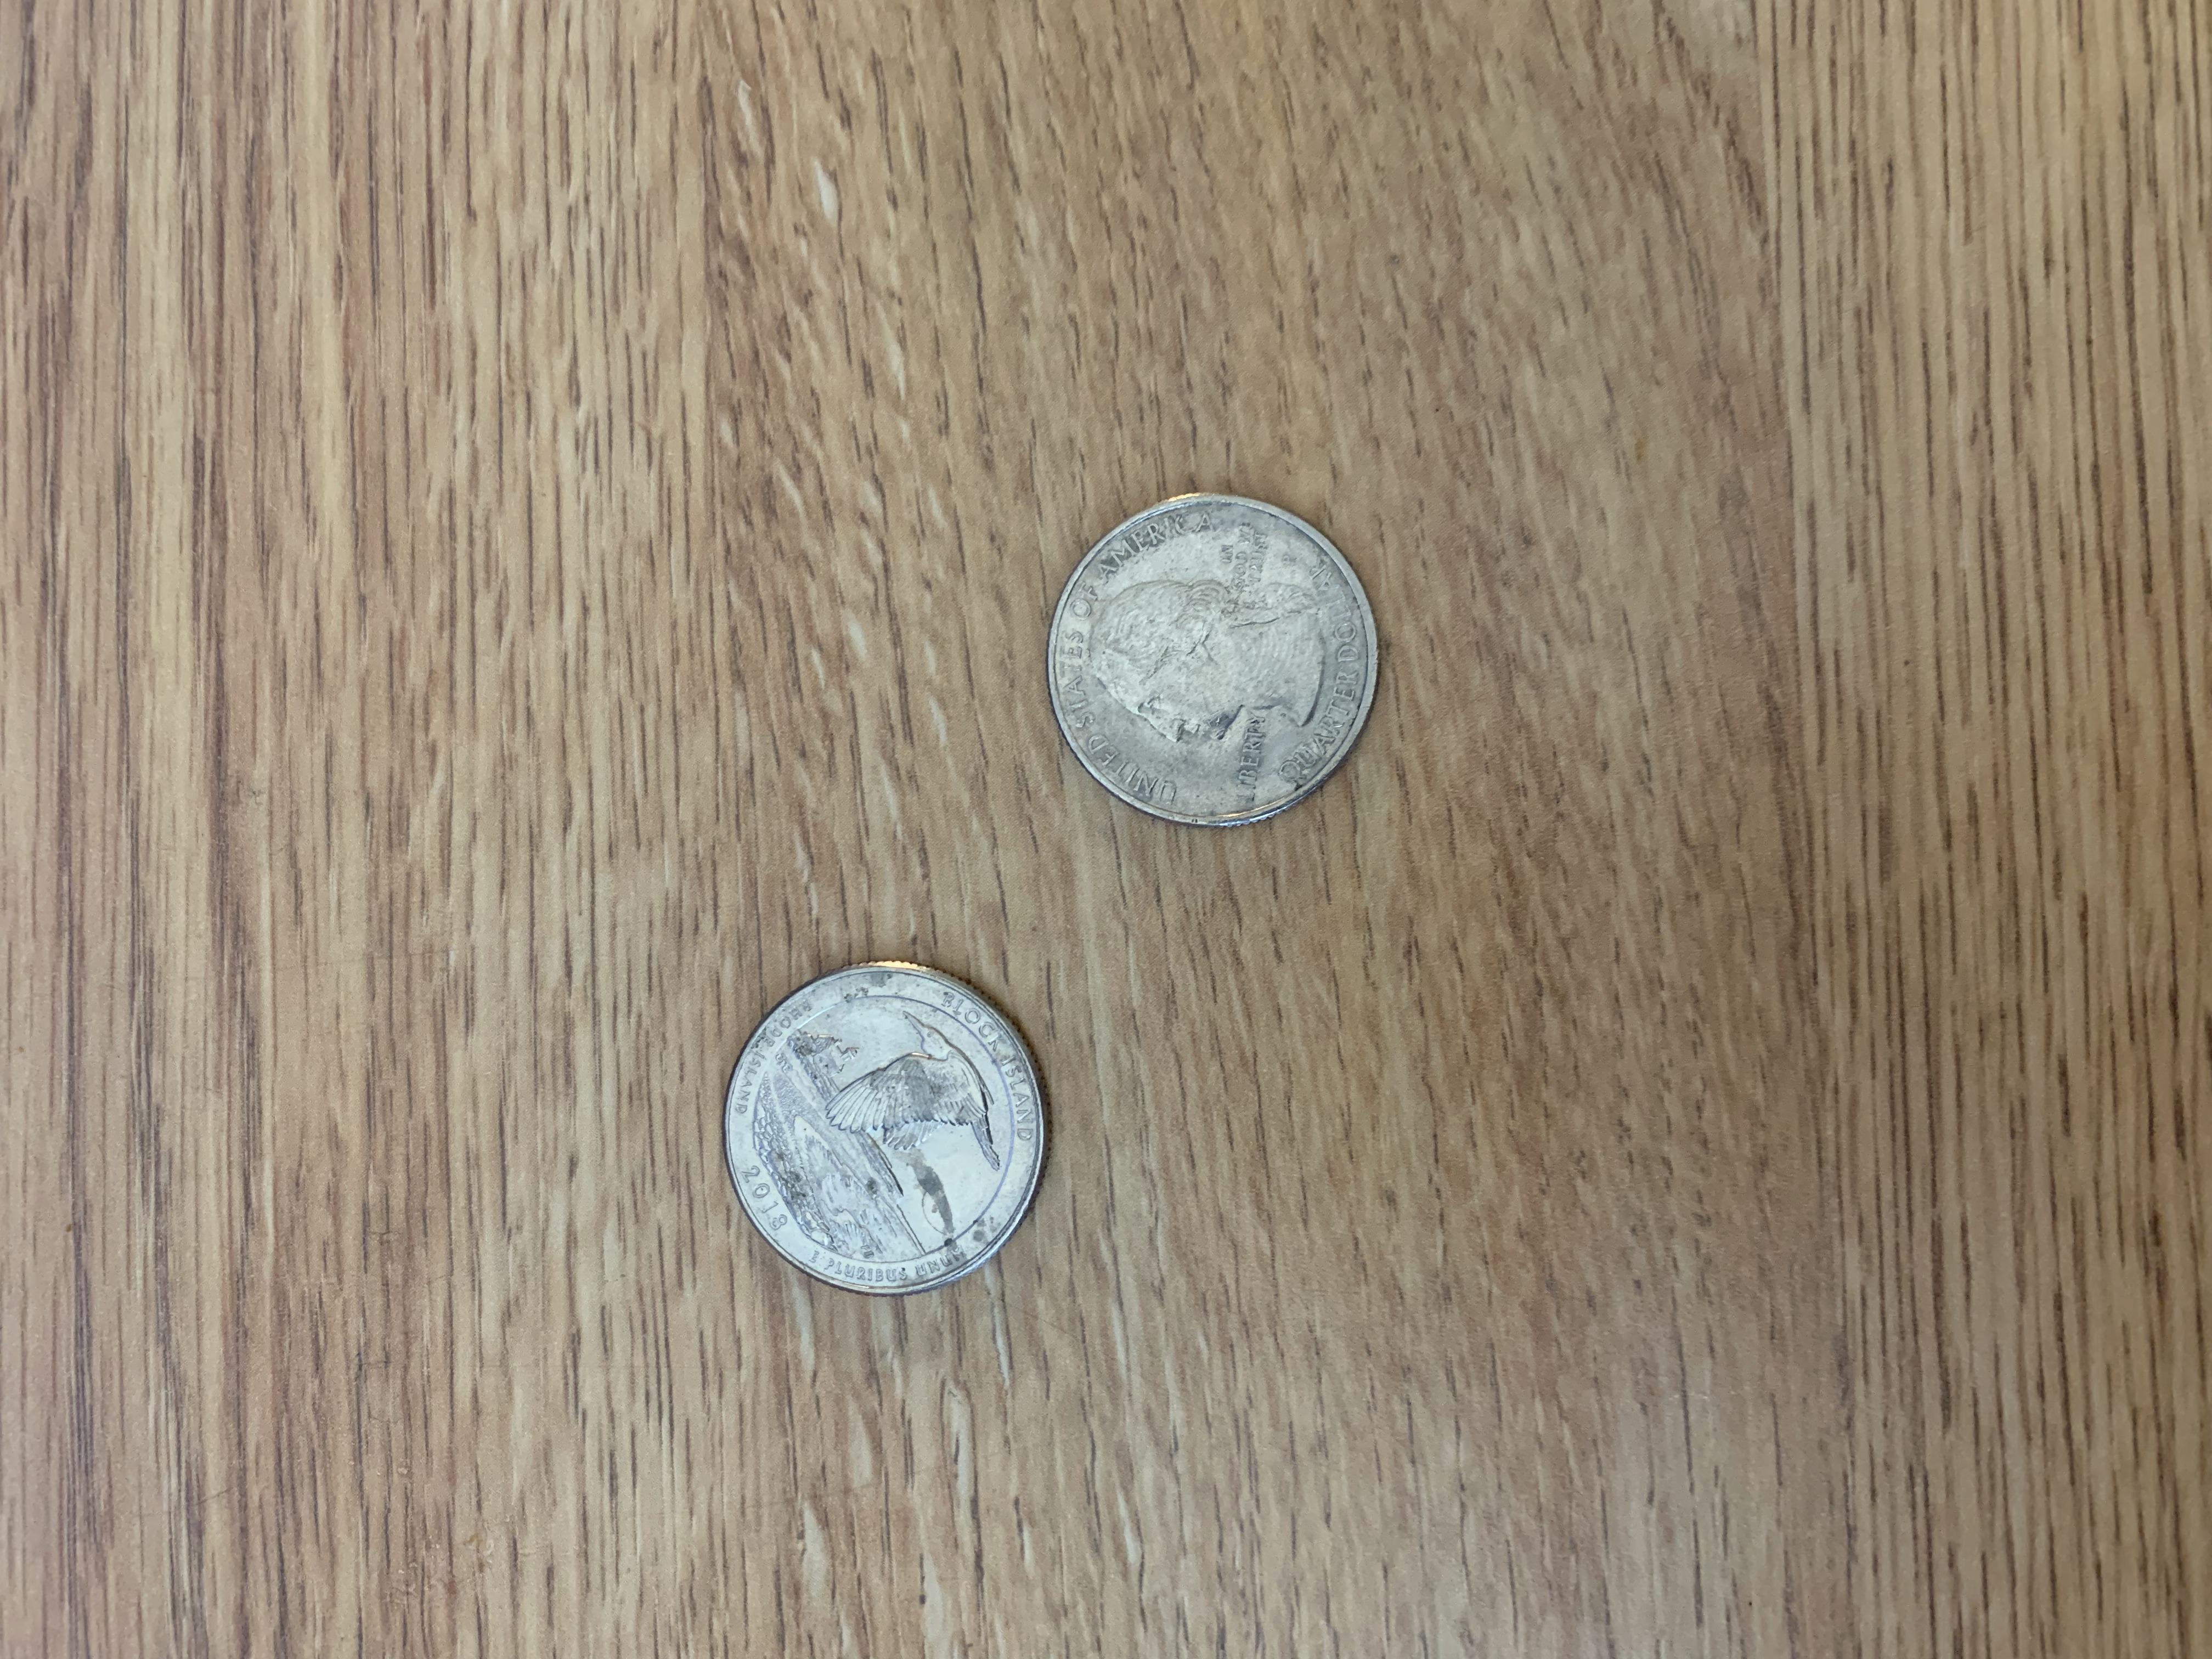Quarter: (705, 950, 1057, 1316), (1042, 479, 1381, 845)
